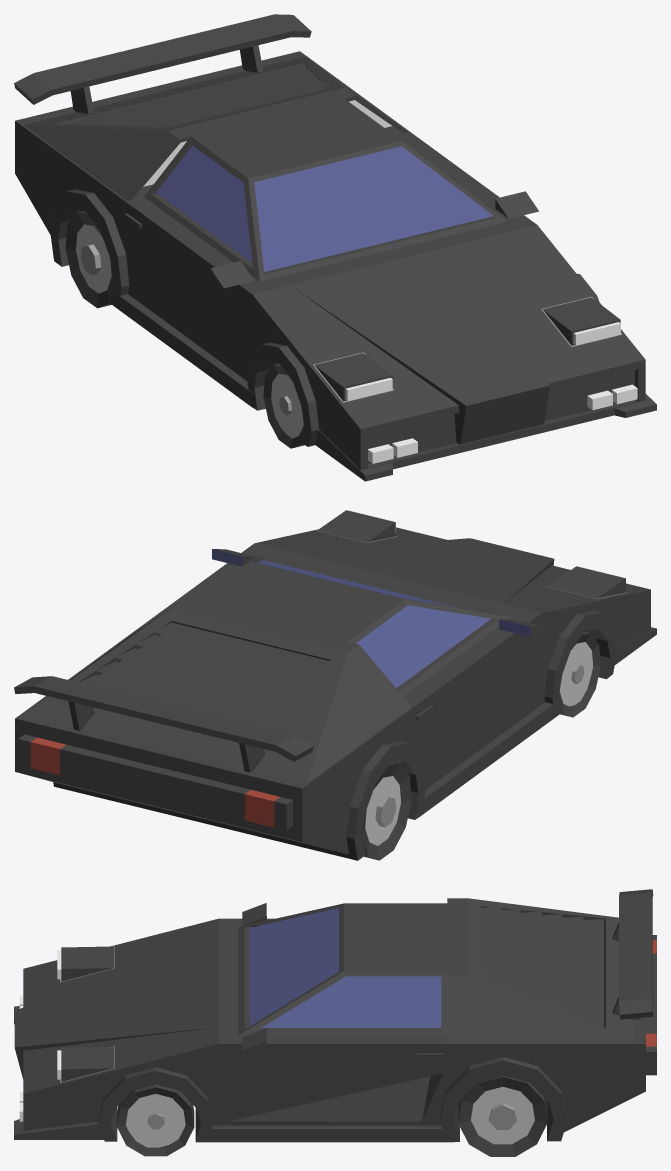
File: transport_sport_007.fbx
3 renders of one model, top to bottom at view 1: azimuth 30°, elevation 25°; view 2: azimuth 150°, elevation 25°; view 3: azimuth 270°, elevation 25°, orthographic. The views are drawn at different scales.
Visible parts, largest first — view 1: transport_sport_007; view 2: transport_sport_007; view 3: transport_sport_007.
Boxes of the visible parts, left/top/right/bottom form: transport_sport_007: left=14, top=14, right=656, bottom=481; transport_sport_007: left=14, top=510, right=656, bottom=860; transport_sport_007: left=14, top=889, right=656, bottom=1156.
Size of the model in its own units: 191 by 100 by 375.
